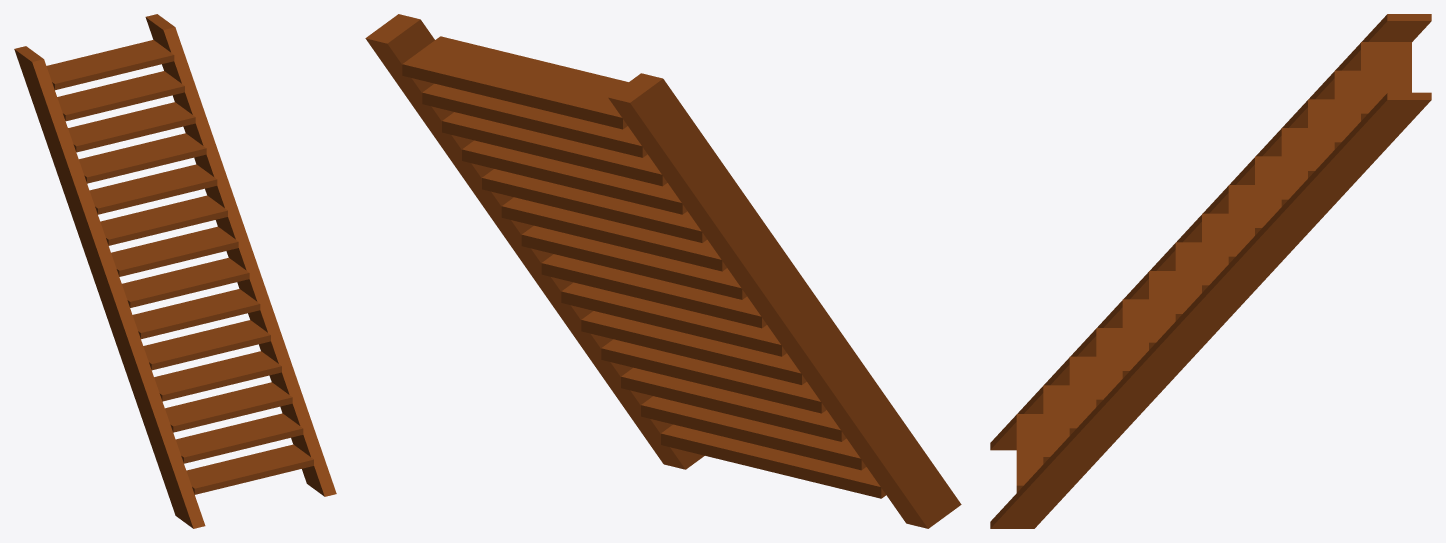
The model's file is Prop_Stairs_Wooden_03.FBX.
The picture shows the model from 3 angles, left to right: view 1: azimuth 30°, elevation 25°; view 2: azimuth 150°, elevation 25°; view 3: azimuth 270°, elevation 25°; orthographic projection. The views are drawn at different scales.
Parts seen in each view (by area): view 1: Prop_Stairs_Wooden_03; view 2: Prop_Stairs_Wooden_03; view 3: Prop_Stairs_Wooden_03.
Part boxes in pixels (x1,y1,x2,y2): Prop_Stairs_Wooden_03: (14, 14, 336, 528); Prop_Stairs_Wooden_03: (365, 14, 961, 528); Prop_Stairs_Wooden_03: (990, 14, 1431, 528).
Size of the model in its own units: 1179 by 2743 by 2558.
